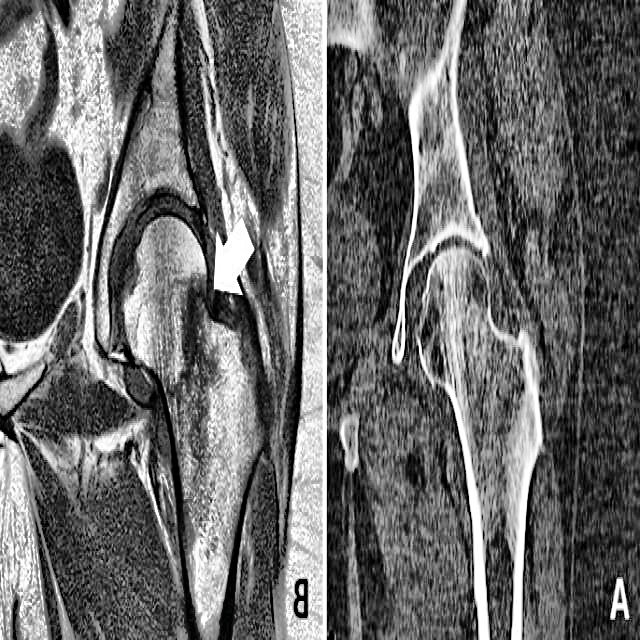Oblique Displaced: (161, 270, 213, 426)
